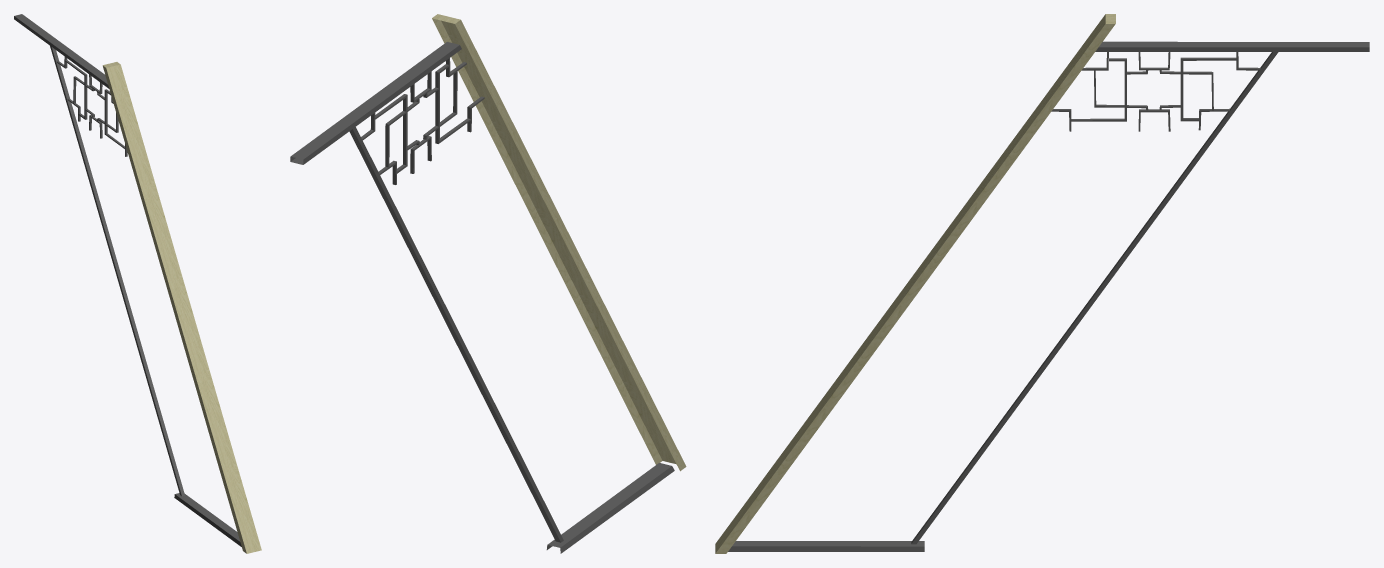
Rendered from nt_2020_house_02_railing_01_frame_LOD1.obj.
The picture shows the model from 3 angles, left to right: view 1: azimuth 30°, elevation 25°; view 2: azimuth 150°, elevation 25°; view 3: azimuth 270°, elevation 25°; orthographic projection. The views are drawn at different scales.
Visible parts, largest first — view 1: nt_2020_wood_cream, nt_2020_metal_brushed; view 2: nt_2020_wood_cream, nt_2020_metal_brushed; view 3: nt_2020_metal_brushed, nt_2020_wood_cream.
Boxes of the visible parts, x1,y1,x2,y2 form: nt_2020_wood_cream: (102,62,261,553); nt_2020_metal_brushed: (14,14,241,546); nt_2020_wood_cream: (432,14,686,471); nt_2020_metal_brushed: (290,42,674,553); nt_2020_metal_brushed: (728,41,1369,551); nt_2020_wood_cream: (715,14,1115,553).
Bounding box in the file's own units: 9.47 × 232 × 260.
